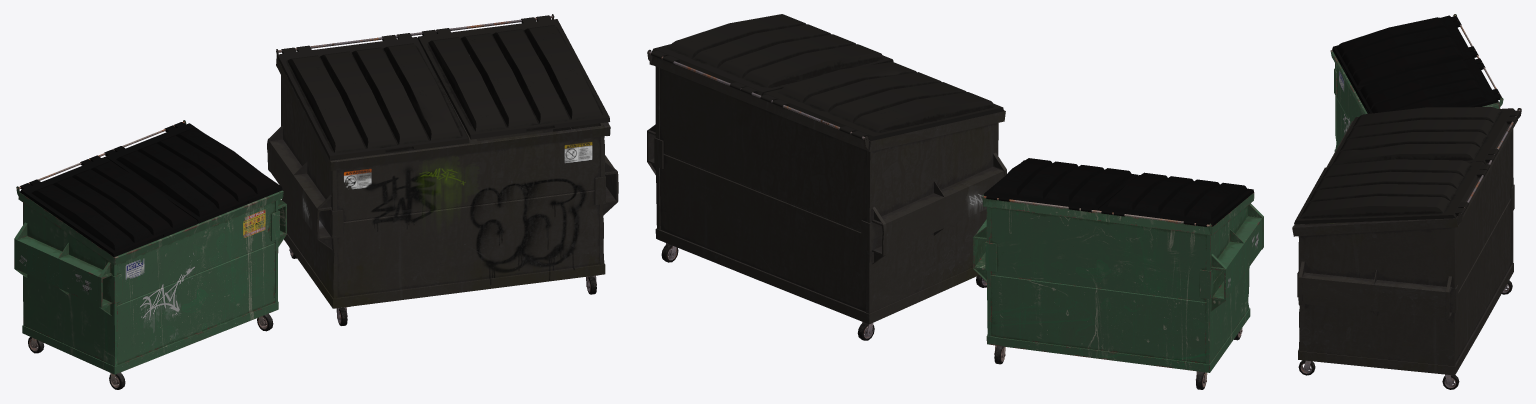
3 views of the same model, side by side, from view 1: azimuth 30°, elevation 25°; view 2: azimuth 150°, elevation 25°; view 3: azimuth 270°, elevation 25° (orthographic). The views are drawn at different scales.
Visible parts, largest first — view 1: 6Y_6Y_dumpster_tex_0, 4Y_4Y_dumpster_tex_0; view 2: 6Y_6Y_dumpster_tex_0, 4Y_4Y_dumpster_tex_0; view 3: 6Y_6Y_dumpster_tex_0, 4Y_4Y_dumpster_tex_0.
Boxes of the visible parts, x1,y1,x2,y2 form: 6Y_6Y_dumpster_tex_0: (267,14,618,325); 4Y_4Y_dumpster_tex_0: (14,120,286,389); 6Y_6Y_dumpster_tex_0: (647,14,1006,340); 4Y_4Y_dumpster_tex_0: (973,158,1263,389); 6Y_6Y_dumpster_tex_0: (1292,107,1521,389); 4Y_4Y_dumpster_tex_0: (1330,14,1503,151).
Bounding box in the file's own units: 117 × 41.36 × 46.93.
Materials: 2 (2 with a texture image).
